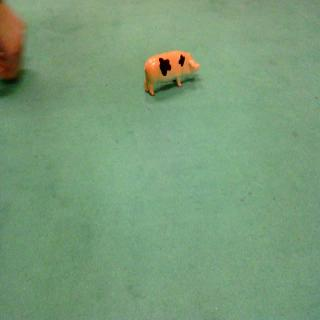pig: (140, 48, 204, 97)
